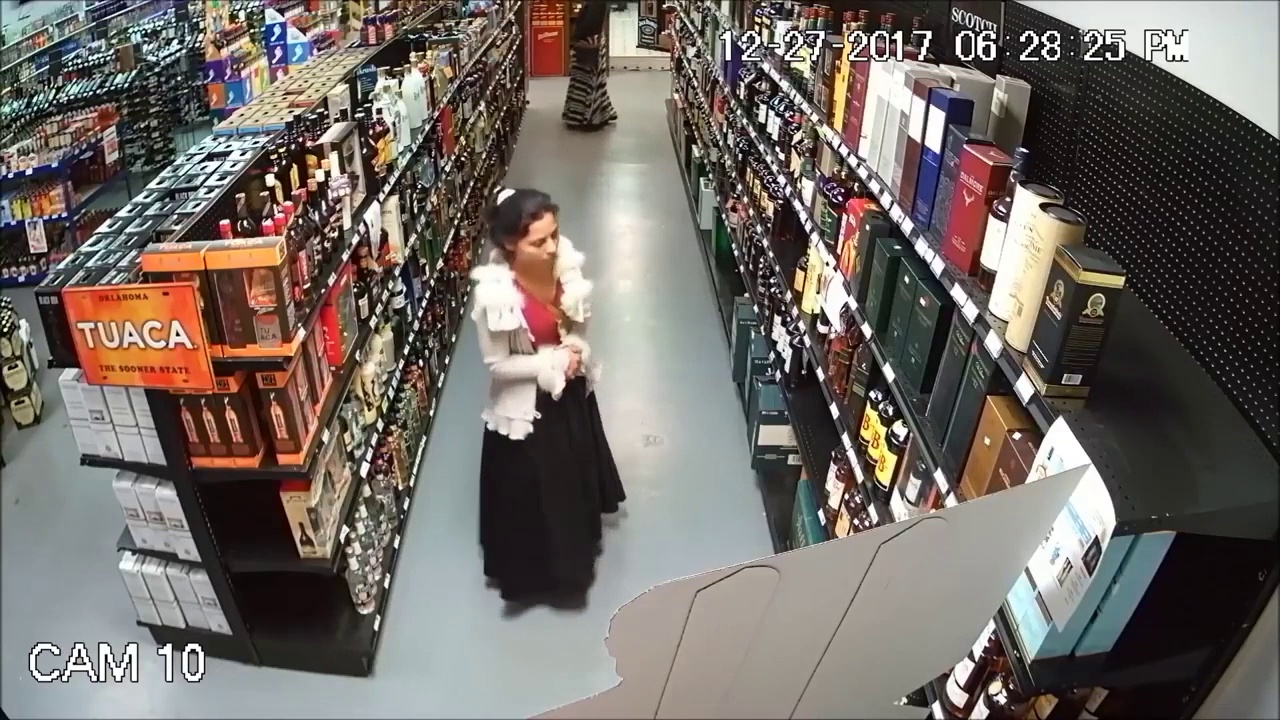face: (511, 215, 564, 272)
